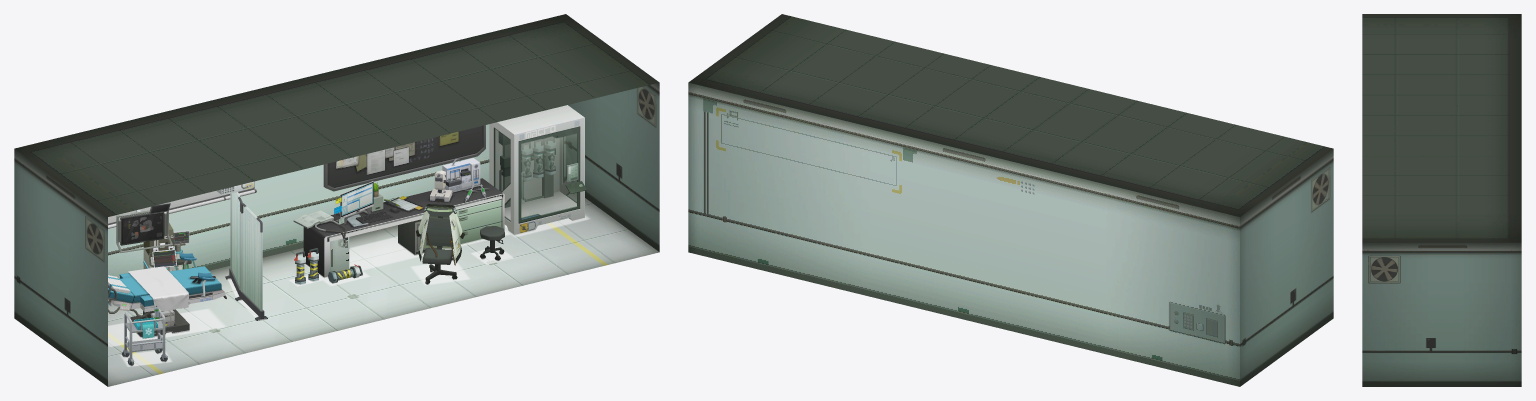
The model's file is icu.glb.
The picture shows the model from 3 angles, left to right: view 1: azimuth 30°, elevation 25°; view 2: azimuth 150°, elevation 25°; view 3: azimuth 270°, elevation 25°; orthographic projection. The views are drawn at different scales.
Visible parts, largest first — view 1: ROOM_room, ROOM_floor, furni_icu_sampleStorage_01, furni_icu_desk_02, furni_icu_desk_01, furni_icu_blackboard_01, furni_icu_sampleStorage_03, furni_icu_curtain_01, furni_icu_bed_02, furni_icu_bed_01, furni_icu_shadowlessLamp_01, furni_icu_chair_01 (+11 smaller); view 2: ROOM_room, ROOM_LDoor; view 3: ROOM_room, ROOM_RDoor.
Part boxes in pixels (box(x1,y1,x2,y2)): ROOM_room: box(14, 14, 659, 386); ROOM_floor: box(108, 193, 659, 386); furni_icu_sampleStorage_01: box(489, 105, 584, 235); furni_icu_desk_02: box(303, 178, 504, 277); furni_icu_desk_01: box(293, 158, 489, 284); furni_icu_blackboard_01: box(323, 125, 485, 191); furni_icu_sampleStorage_03: box(495, 129, 577, 219); furni_icu_curtain_01: box(225, 192, 267, 320); furni_icu_bed_02: box(108, 253, 215, 333); furni_icu_bed_01: box(108, 266, 226, 338); furni_icu_shadowlessLamp_01: box(116, 209, 172, 252); furni_icu_chair_01: box(422, 207, 457, 284); ROOM_room: box(688, 14, 1333, 386); ROOM_LDoor: box(1300, 251, 1319, 341); ROOM_room: box(1362, 14, 1521, 386); ROOM_RDoor: box(1385, 321, 1418, 386).
Bounding box in the file's own units: 7.48 × 2.2 × 2.2.
Materials: 8 (8 with a texture image).
